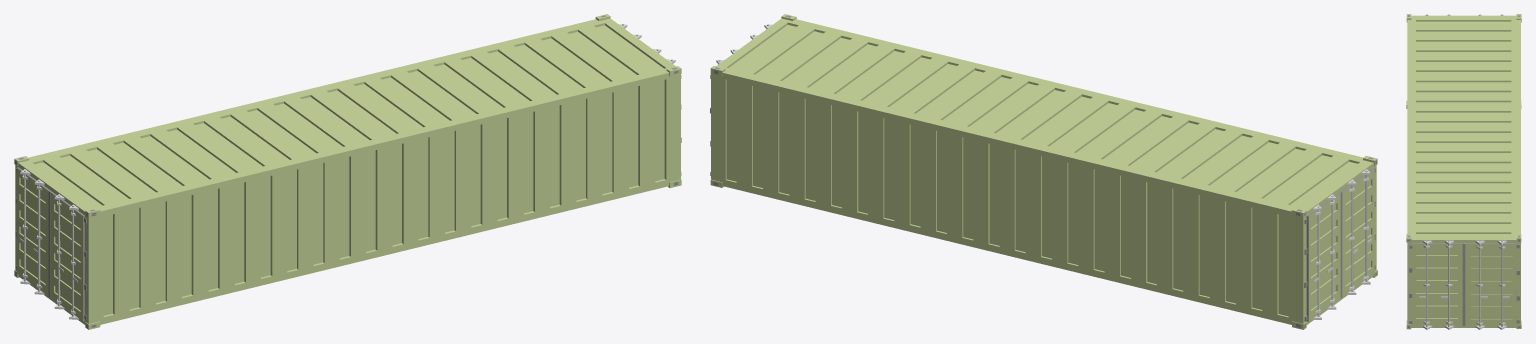
The model's file is props28.fbx.
3 renders of one model, left to right at view 1: azimuth 30°, elevation 25°; view 2: azimuth 150°, elevation 25°; view 3: azimuth 270°, elevation 25°, orthographic. The views are drawn at different scales.
Visible parts, largest first — view 1: Extrude, Cube_5, Cube_3; view 2: Extrude, Cube_3, Cube_5; view 3: Extrude, Cube_6, Cube_4.
Boxes of the visible parts, left/top/right/bottom form: Extrude: left=14, top=14, right=681, bottom=329; Cube_5: left=48, top=191, right=86, bottom=321; Cube_3: left=15, top=167, right=51, bottom=295; Extrude: left=710, top=14, right=1377, bottom=329; Cube_3: left=1304, top=192, right=1340, bottom=321; Cube_5: left=1340, top=167, right=1375, bottom=298; Extrude: left=1406, top=14, right=1521, bottom=329; Cube_6: left=1462, top=241, right=1519, bottom=327; Cube_4: left=1409, top=241, right=1464, bottom=327.
Bounding box in the file's own units: 1555 × 287 × 330.
